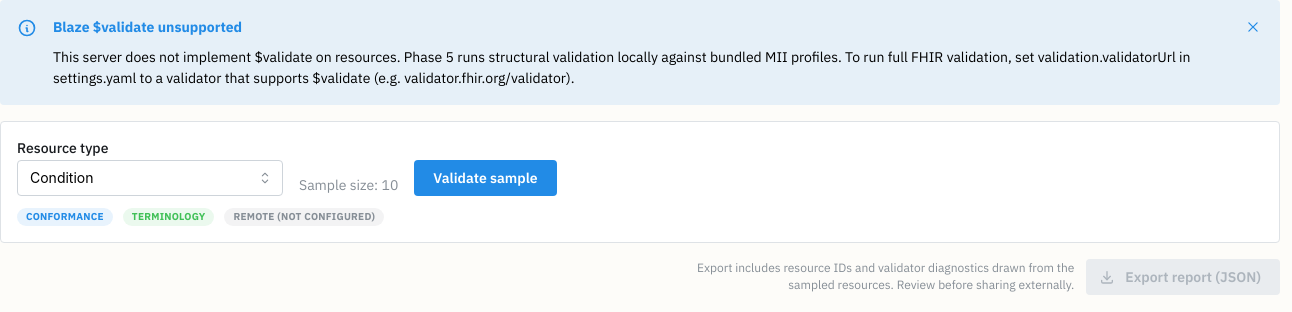
Test: ValidationPanel (QUAL-04) — banner › dismiss button hides the banner and persists the flag in localStorage
Click the button named "dismiss". click: [1253, 27]
box: [1243,17,1263,37]
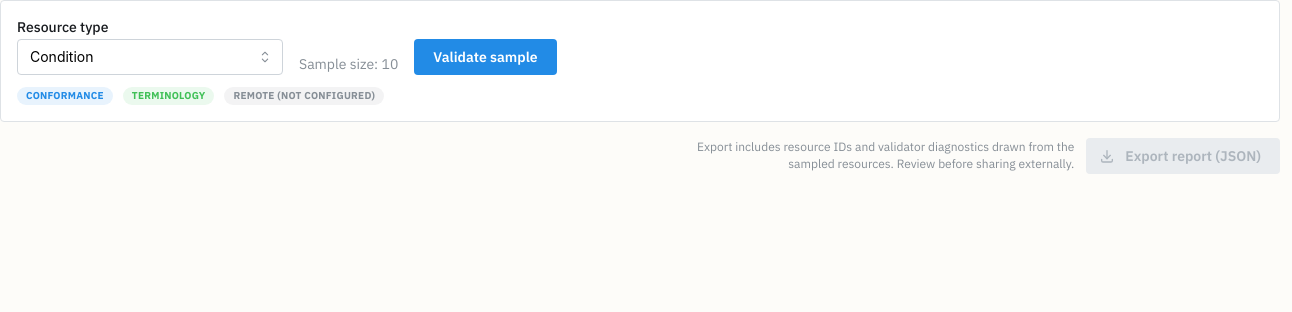
Now the text "This server does not implement $validate" is gone
